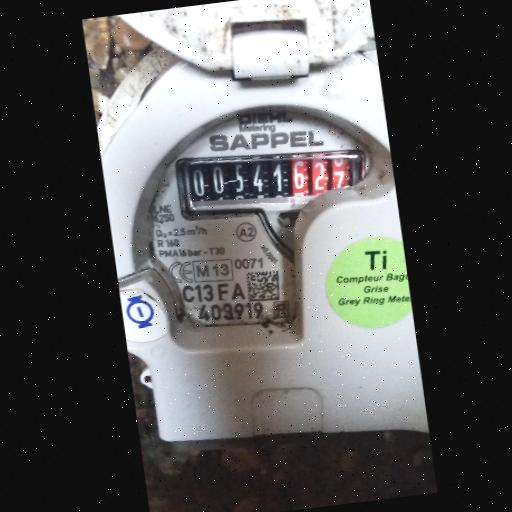0: (207, 157, 233, 202), (187, 159, 213, 203)
1: (266, 155, 292, 200)
2: (307, 153, 333, 198)
4: (247, 155, 273, 200)
5: (227, 157, 251, 202)
6: (287, 153, 313, 198)
7: (328, 152, 354, 192)
border_water_meter_number: (170, 135, 375, 235)
